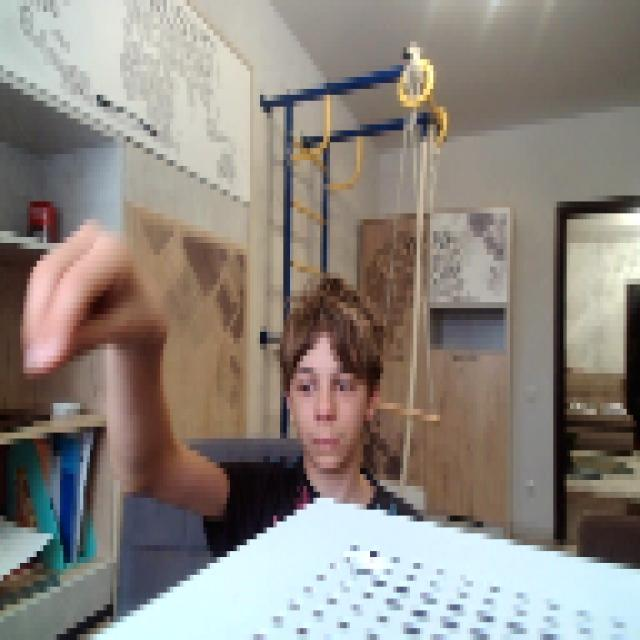left_click: (20, 208, 147, 374)
